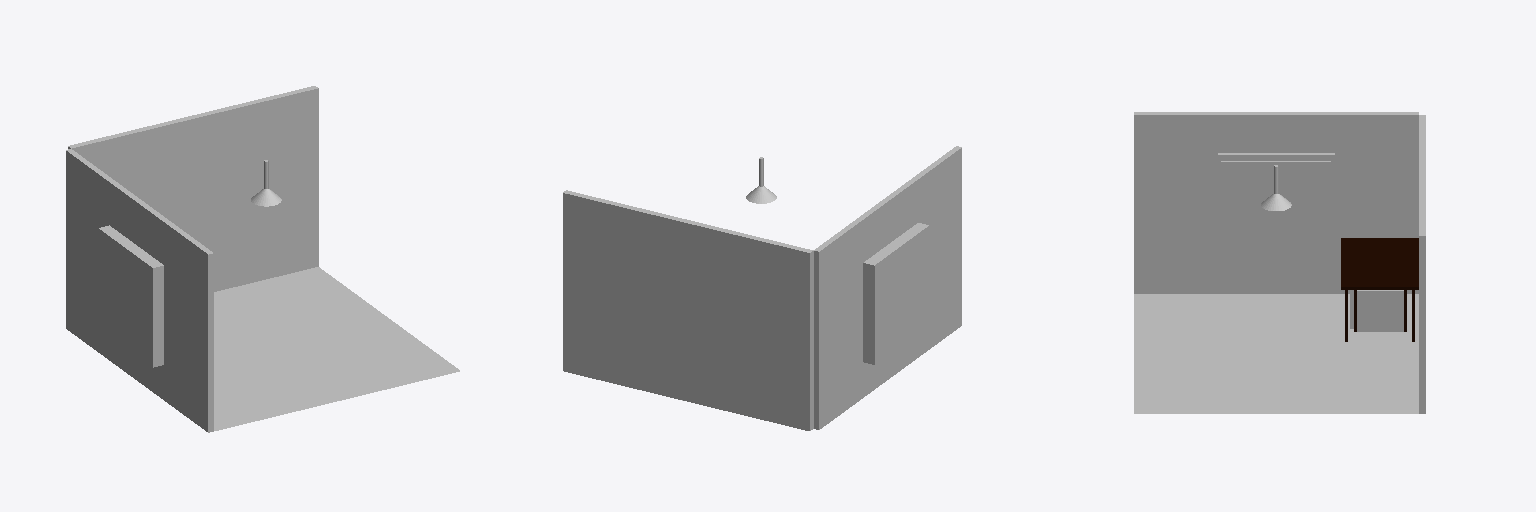
File: room.obj
The picture shows the model from 3 angles: view 1: azimuth 30°, elevation 25°; view 2: azimuth 150°, elevation 25°; view 3: azimuth 270°, elevation 25°; orthographic projection.
Parts seen in each view (by area): view 1: Plane, Cube_Cube.001; view 2: Plane, Cube_Cube.001; view 3: Plane, Cube_Cube.001, Cube.004_Cube.005, Cube.003_Cube.010, Cube.001_Cube.002.
Part boxes in pixels (left/top/right/bottom): Plane: left=66, top=86, right=459, bottom=432; Cube_Cube.001: left=98, top=225, right=163, bottom=367; Plane: left=563, top=146, right=961, bottom=430; Cube_Cube.001: left=863, top=223, right=928, bottom=364; Plane: left=1134, top=112, right=1425, bottom=413; Cube_Cube.001: left=1221, top=161, right=1330, bottom=260; Cube.004_Cube.005: left=1341, top=238, right=1418, bottom=341; Cube.003_Cube.010: left=1350, top=290, right=1403, bottom=331; Cube.001_Cube.002: left=1218, top=153, right=1334, bottom=160.
Size of the model in its own units: 8.46 by 5.77 by 8.12.